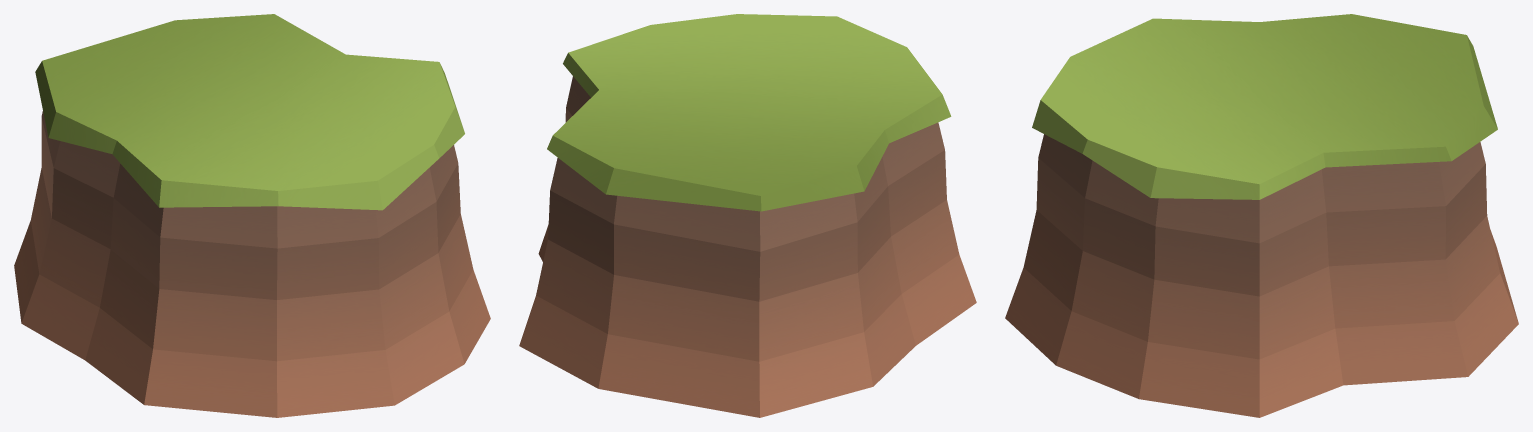
Rendered from cliff1.fbx.
3 renders of one model, left to right at view 1: azimuth 30°, elevation 25°; view 2: azimuth 150°, elevation 25°; view 3: azimuth 270°, elevation 25°, orthographic. The views are drawn at different scales.
Visible parts, largest first — view 1: cliff1; view 2: cliff1; view 3: cliff1.
Part boxes in pixels (x1,y1,x2,y2): cliff1: (14,14,490,417); cliff1: (519,14,976,417); cliff1: (1005,14,1518,417).
Bounding box in the file's own units: 5.92 × 3.04 × 6.48.
